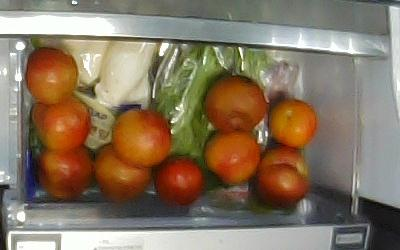prune: (203, 74, 265, 133), (94, 143, 153, 202), (112, 109, 170, 167), (30, 97, 91, 151), (204, 130, 261, 187), (34, 146, 94, 199), (258, 146, 308, 205), (24, 48, 77, 103), (152, 153, 203, 204), (267, 99, 317, 150)
